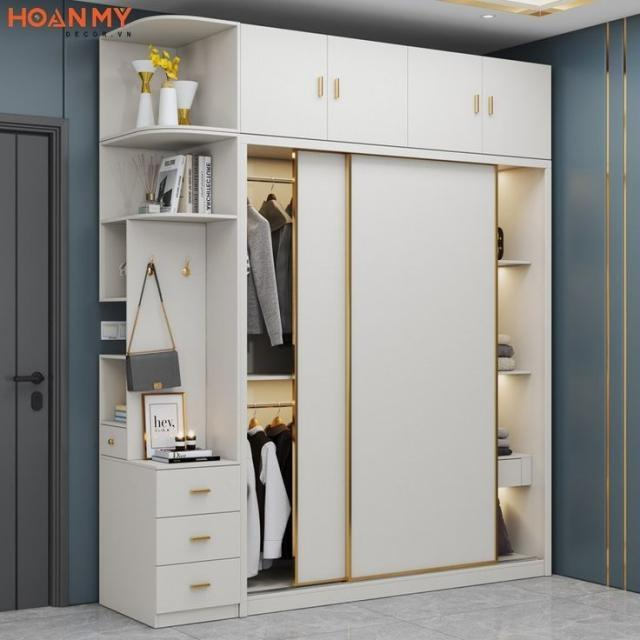door: (0, 114, 64, 611)
obstacle: (242, 25, 557, 158), (97, 452, 243, 624)
